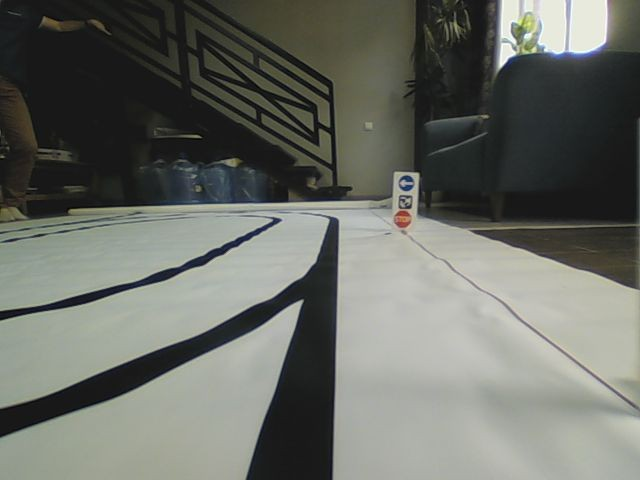Stop: (393, 210, 412, 230)
